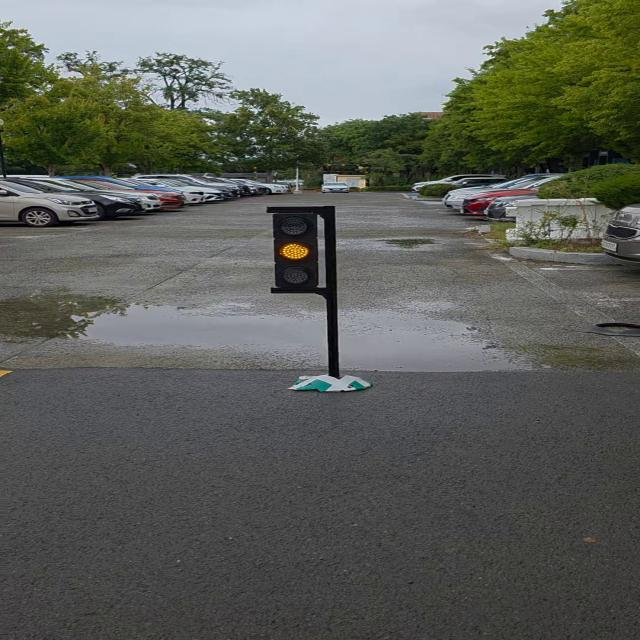yellow: (264, 211, 326, 293)
